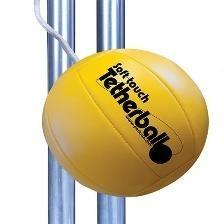Sports-Ball: (37, 48, 211, 201)
